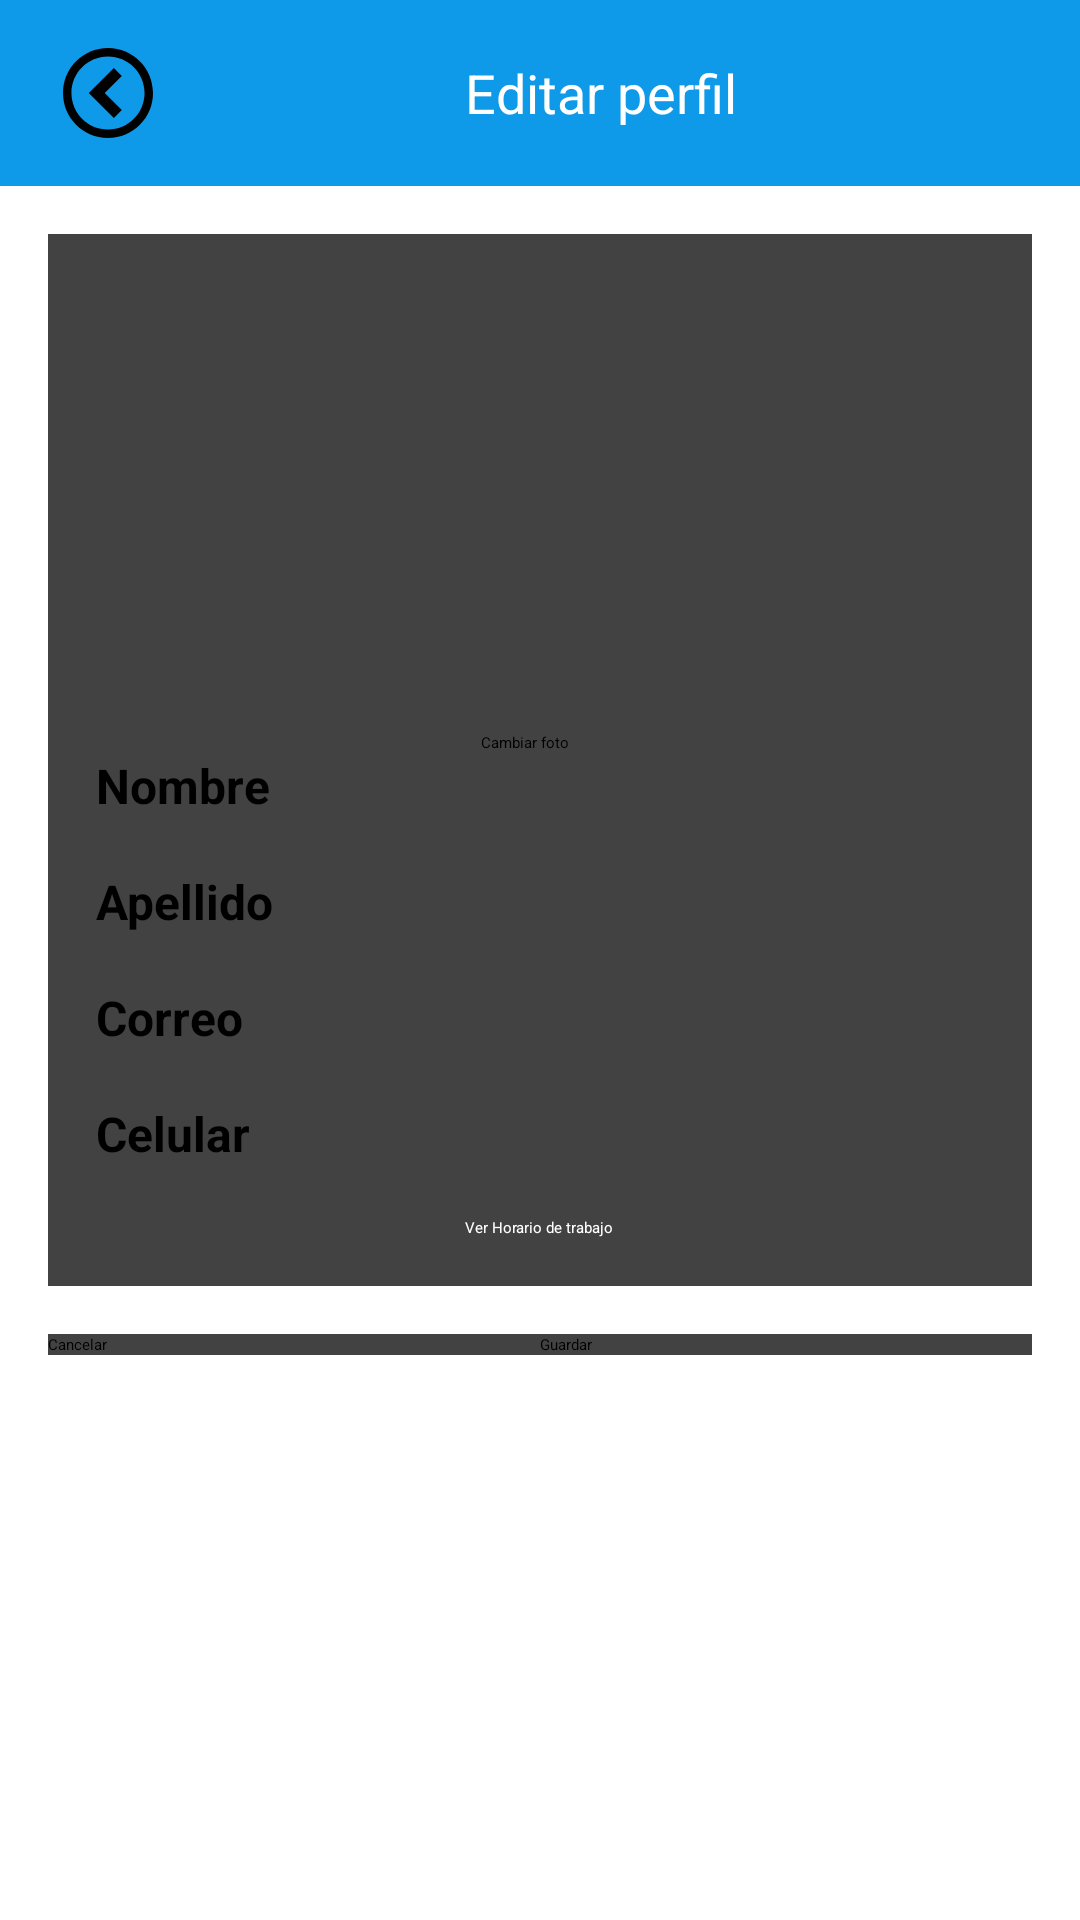

Named icons in this screenshot (1080w x 1920h) and their centers, (x,y):
arrow left: (108,93)
